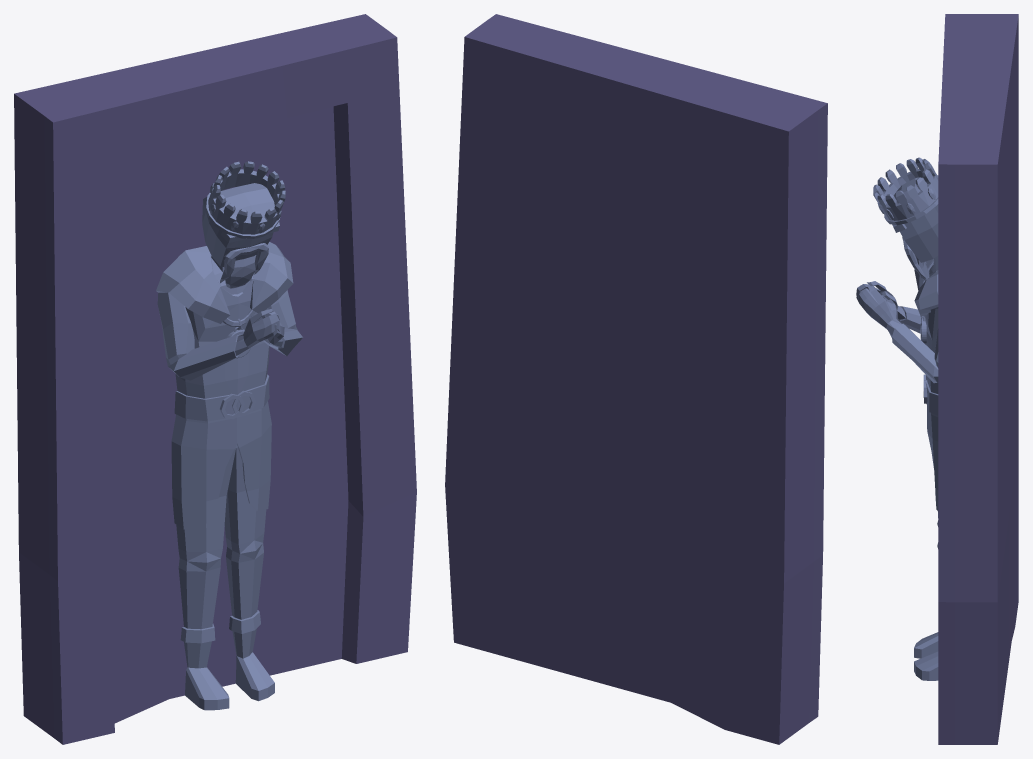
File: Graveyard Keep King Doors.fbx
3 views of the same model, side by side, from view 1: azimuth 30°, elevation 25°; view 2: azimuth 150°, elevation 25°; view 3: azimuth 270°, elevation 25° (orthographic). The views are drawn at different scales.
Visible parts, largest first — view 1: Graveyard Keep King Doors; view 2: Graveyard Keep King Doors; view 3: Graveyard Keep King Doors.
Boxes of the visible parts, x1,y1,x2,y2 form: Graveyard Keep King Doors: [14, 14, 416, 744]; Graveyard Keep King Doors: [445, 14, 827, 744]; Graveyard Keep King Doors: [856, 14, 1018, 744].
Size of the model in its own units: 135 by 225 by 56.38.
